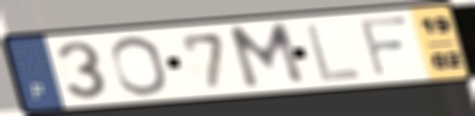3: (54, 39, 109, 102)
7: (178, 30, 230, 91)
F: (356, 13, 413, 80)
L: (302, 20, 365, 85)
M: (224, 20, 310, 93)
O: (108, 34, 172, 98)
